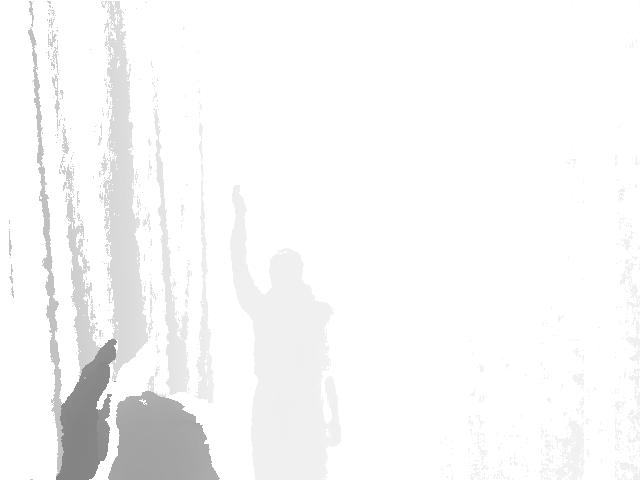hand: (54, 334, 118, 480), (228, 179, 248, 222)
head: (111, 392, 213, 480), (268, 248, 306, 293)
person: (224, 179, 346, 480), (42, 336, 216, 480)
